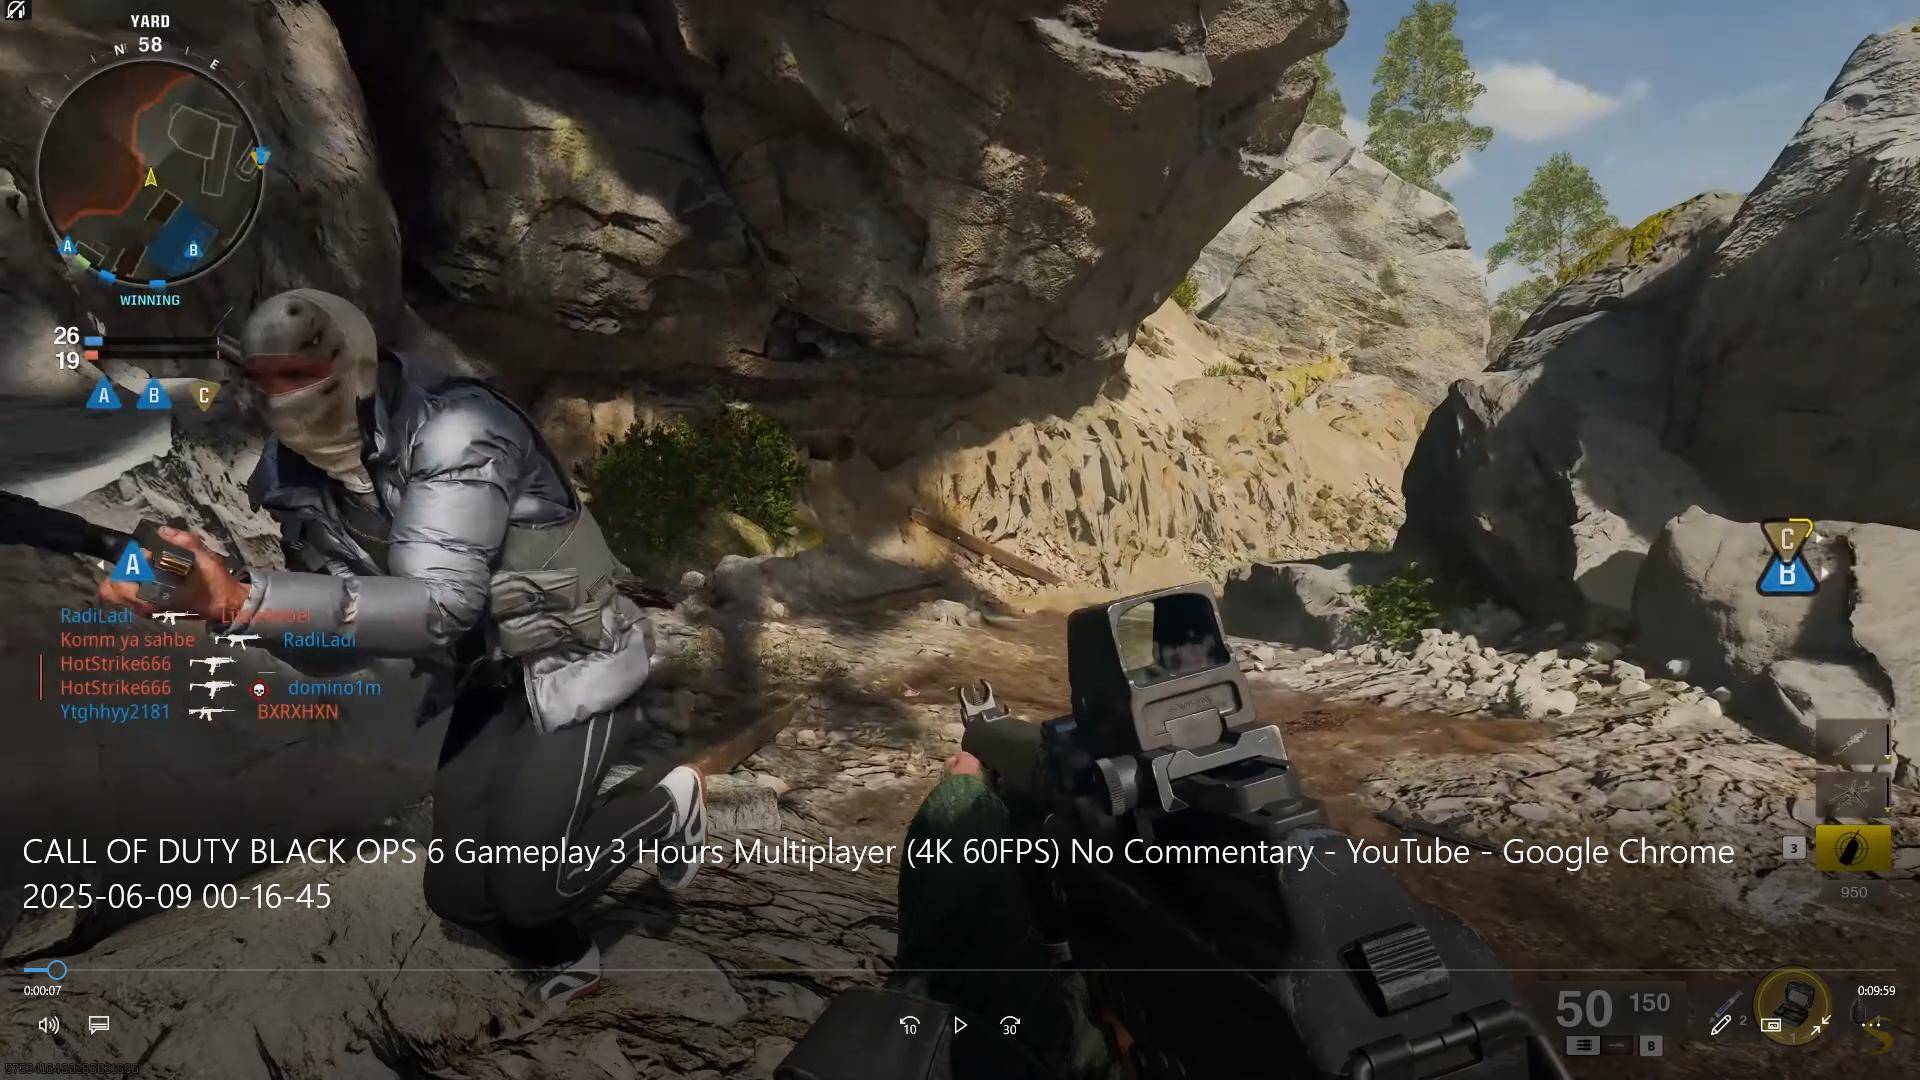Enemy: (222, 285, 674, 794)
